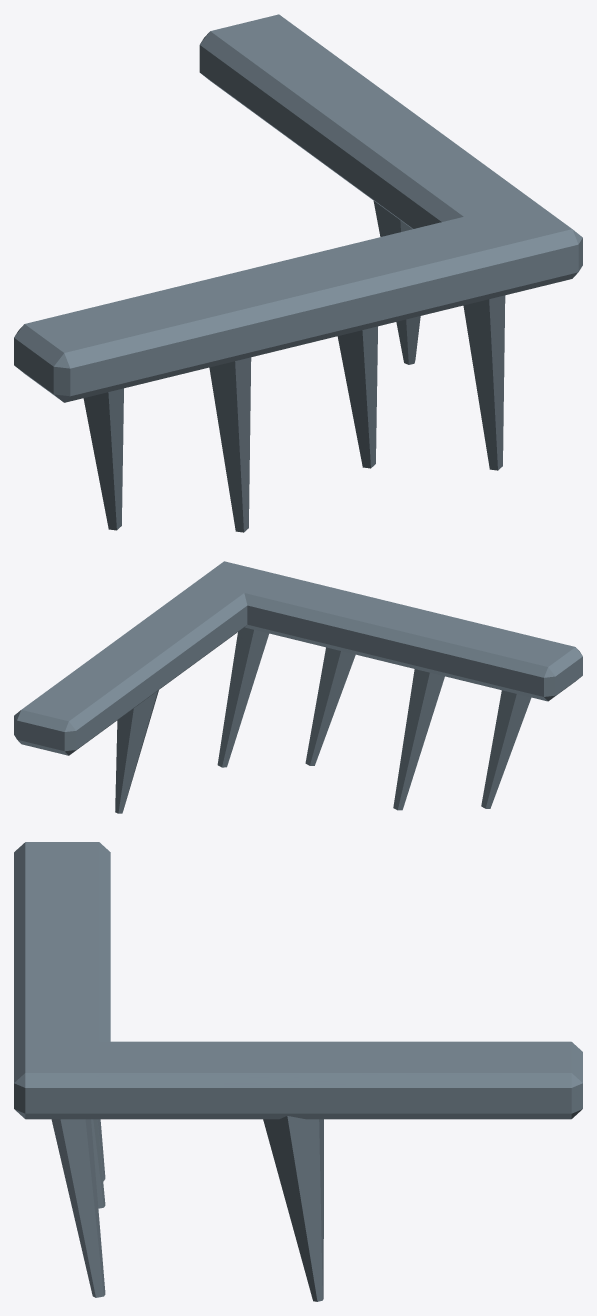
File: beira_canto.glb
3 views of the same model, one above another, from view 1: azimuth 30°, elevation 25°; view 2: azimuth 150°, elevation 25°; view 3: azimuth 270°, elevation 25° (orthographic). The views are drawn at different scales.
Visible parts, largest first — view 1: neve_beira_canto; view 2: neve_beira_canto; view 3: neve_beira_canto.
Boxes of the visible parts, x1,y1,x2,y2 form: neve_beira_canto: [14, 14, 582, 532]; neve_beira_canto: [14, 561, 582, 813]; neve_beira_canto: [14, 842, 582, 1301].
Size of the model in its own units: 1 by 0.4671 by 1.
